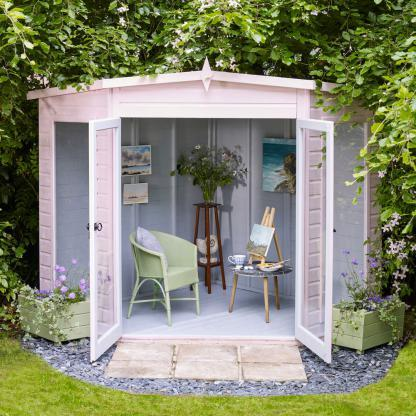chair: (126, 224, 206, 329)
door: (294, 119, 336, 366), (85, 124, 124, 364)
table: (227, 263, 290, 322), (190, 200, 227, 294)
